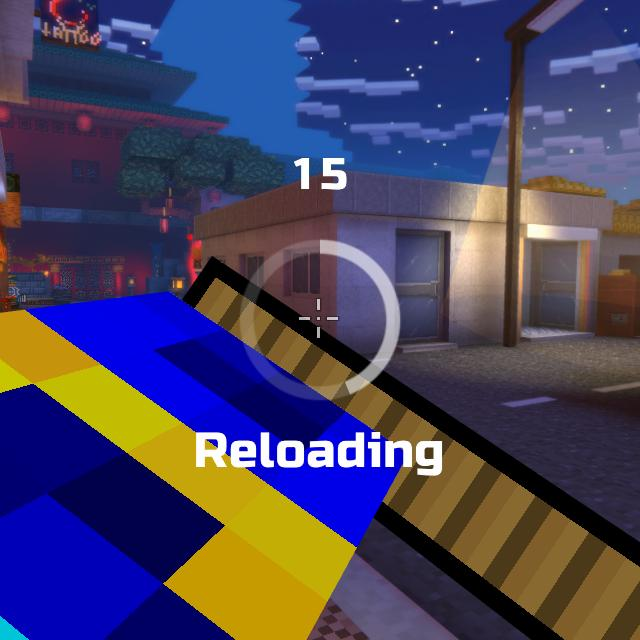Enemy: (193, 247, 202, 276)
